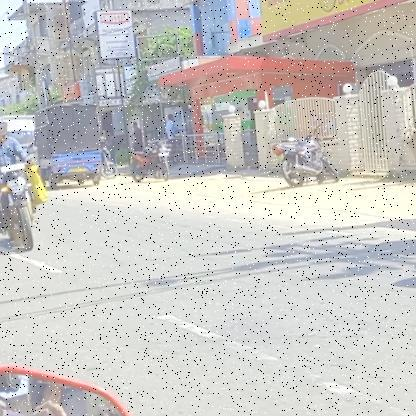motorcycle: (0, 158, 53, 260)
